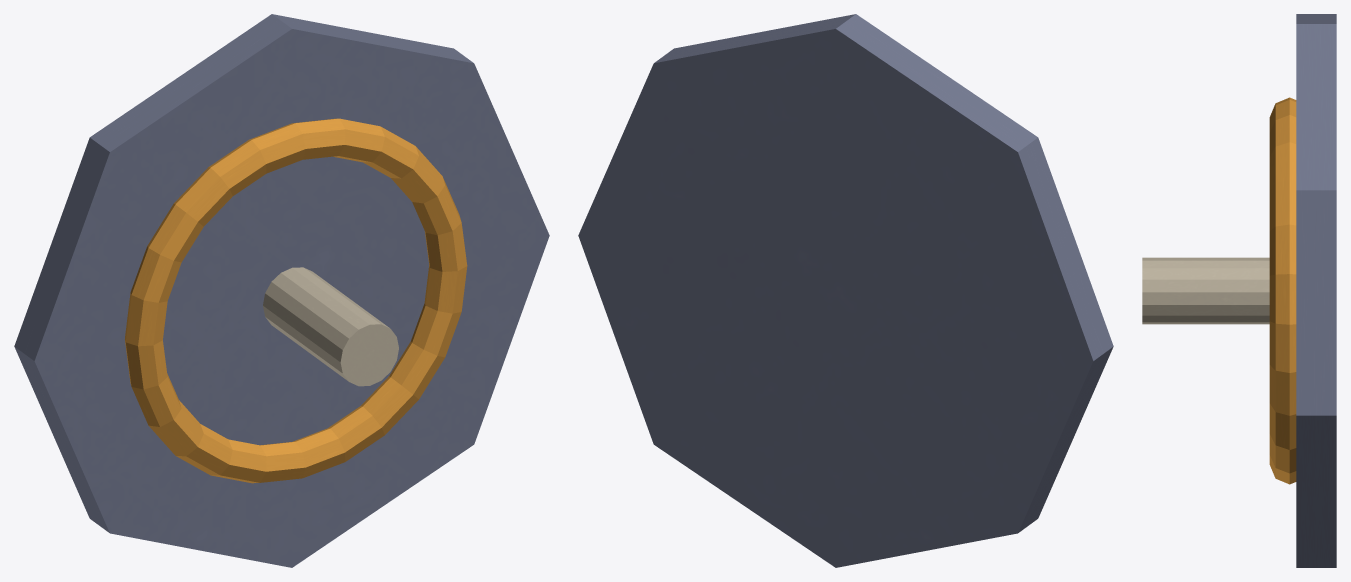
The model's file is bulwark-brand.glb.
The picture shows the model from 3 angles, left to right: view 1: azimuth 30°, elevation 25°; view 2: azimuth 150°, elevation 25°; view 3: azimuth 270°, elevation 25°; orthographic projection.
Parts seen in each view (by area): view 1: brand-shield-face, brand-rune-mark, brand-handle; view 2: brand-shield-face; view 3: brand-shield-face, brand-rune-mark, brand-handle.
Part boxes in pixels (<box>): brand-shield-face: <box>14,14,549,567</box>; brand-rune-mark: <box>124,118,467,483</box>; brand-handle: <box>263,267,398,386</box>; brand-shield-face: <box>578,14,1113,567</box>; brand-shield-face: <box>1296,14,1336,567</box>; brand-rune-mark: <box>1269,97,1296,484</box>; brand-handle: <box>1142,257,1269,324</box>.
Bounding box in the file's own units: 0.44 × 0.44 × 0.145.
3 materials, 3 textured.
